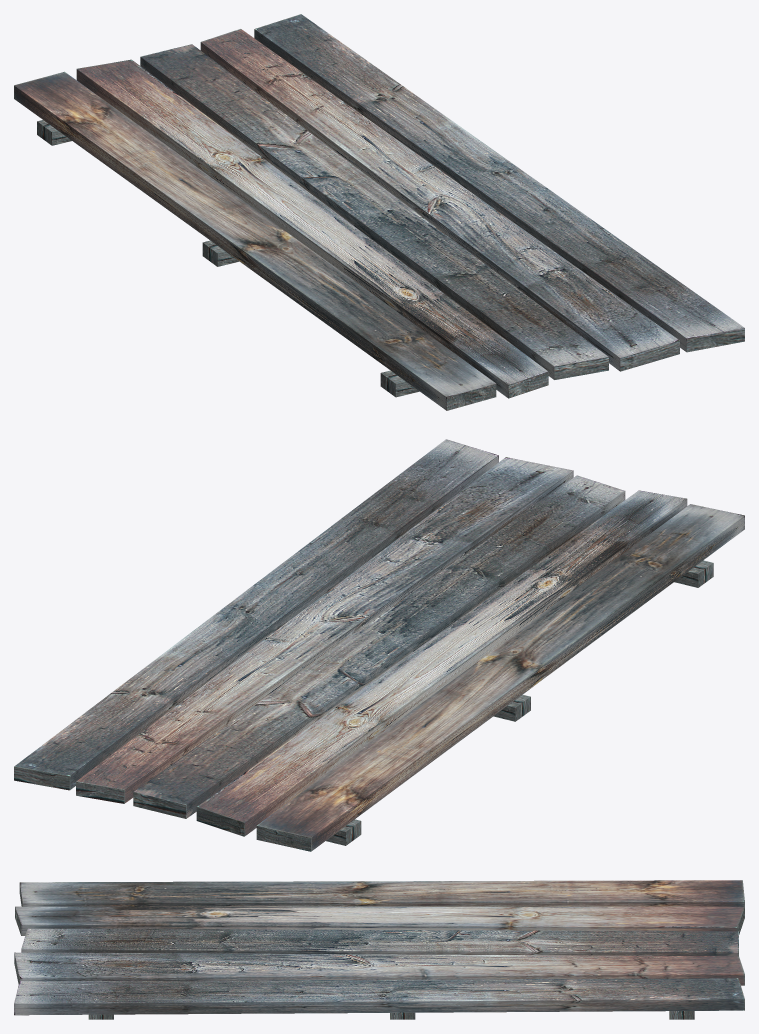
The model's file is WoodFencePlate.FBX.
The picture shows the model from 3 angles, top to bottom: view 1: azimuth 30°, elevation 25°; view 2: azimuth 150°, elevation 25°; view 3: azimuth 270°, elevation 25°; orthographic projection. The views are drawn at different scales.
Visible parts, largest first — view 1: WoodFencePlate; view 2: WoodFencePlate; view 3: WoodFencePlate.
Part boxes in pixels (x1,y1,x2,y2): WoodFencePlate: [14, 14, 744, 410]; WoodFencePlate: [14, 439, 744, 851]; WoodFencePlate: [14, 880, 744, 1019].
Size of the model in its own units: 11.74 by 1.01 by 28.85.
